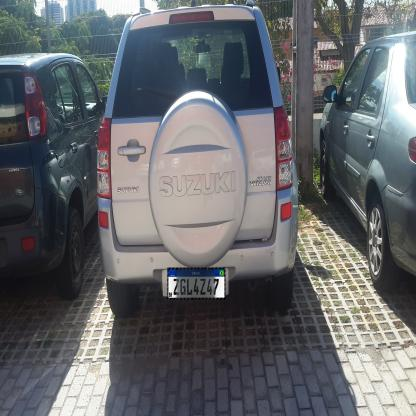PlacaM: (167, 268, 226, 300)
